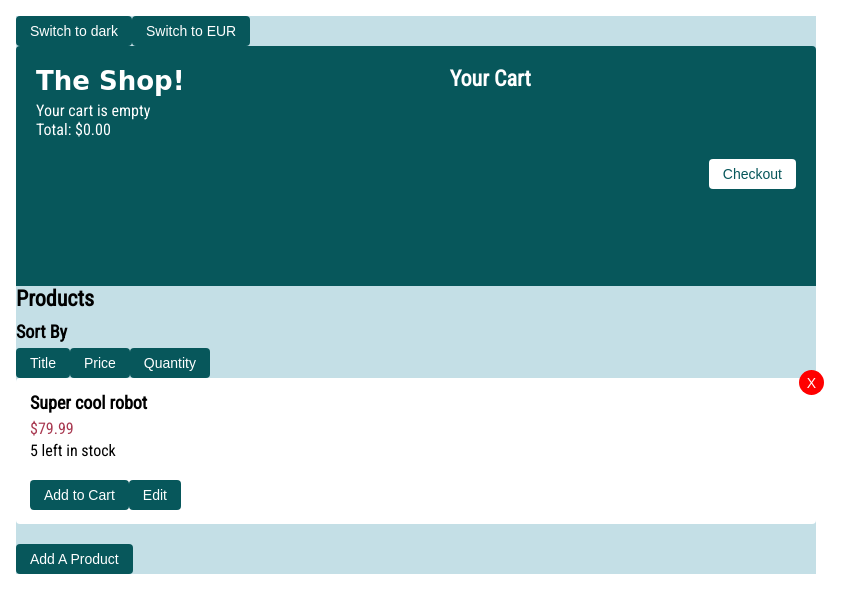
Scenario: Add to cart creates cart item
Click the button "Add to Cart" at (79, 495), box [30,480,129,510]
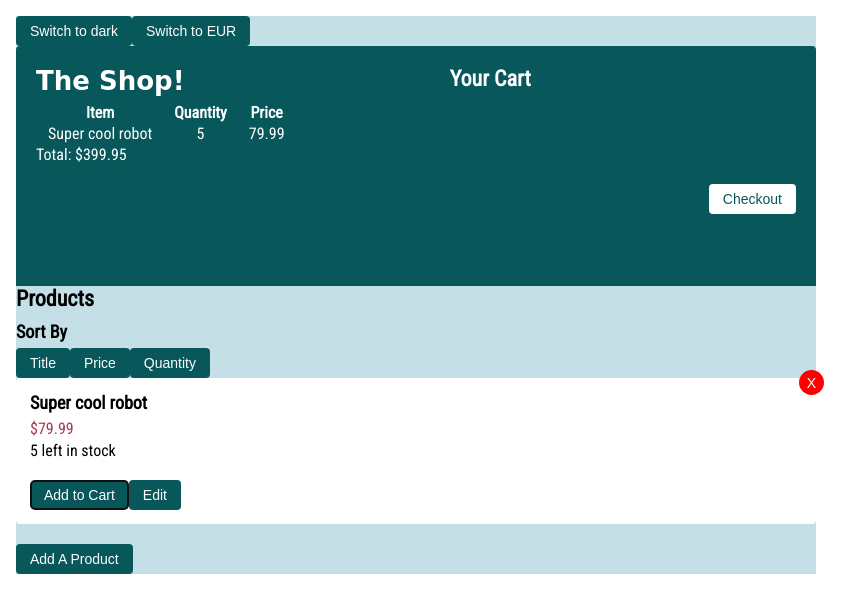
Check: the table shows "Super cool robot", box [48,124,152,143]
